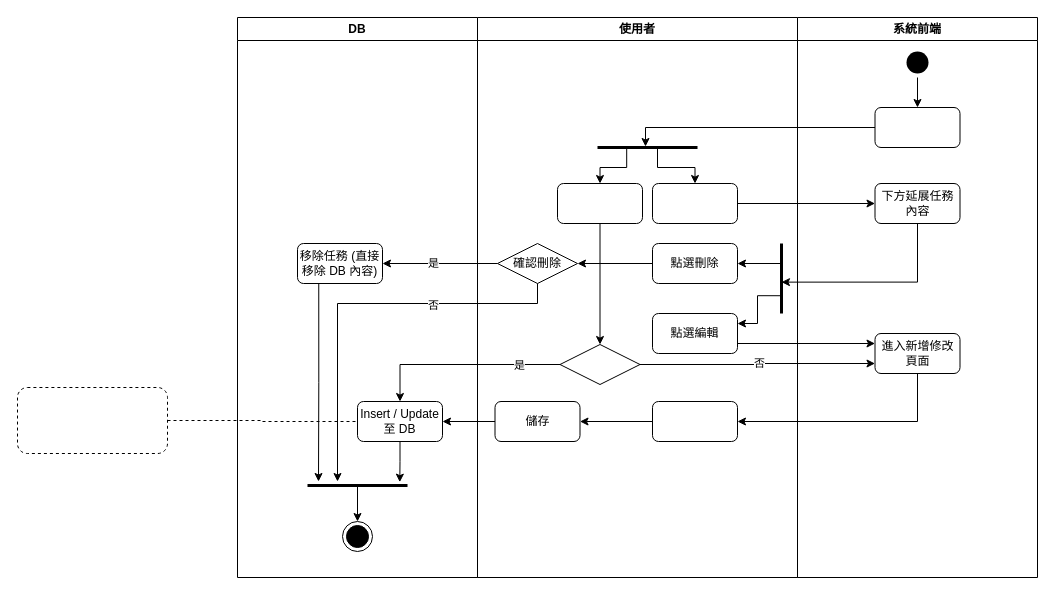
Image size: 1055x595. Some labels were removed from this diagram. The shapes that lost their labels are listed below. From the top down, each one's centre as x and y in pixels, then its label:
At (x=917, y=127): "預設置頂顯示當月任務".
At (x=599, y=203): "點選新增任務".
At (x=695, y=203): "點選現有任務".
At (x=599, y=364): "是否從投資卡片中選擇".
At (x=92, y=420): "可能有一欄位儲存屬於的投資類別與 顯示的月計畫 (default null)".
At (x=695, y=421): "輸入 / 修改內容".
